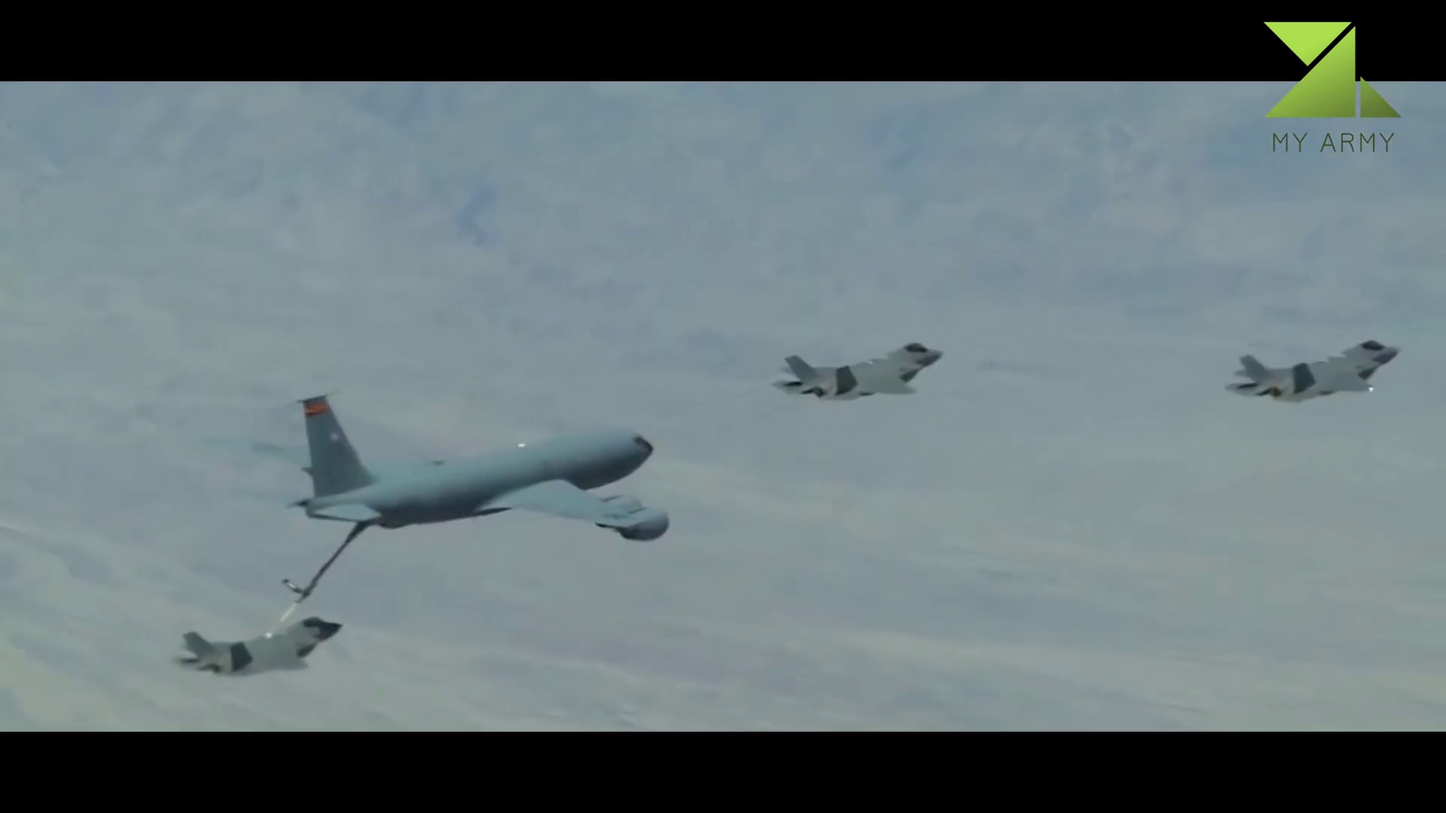F35: (1223, 339, 1401, 402), (174, 615, 343, 679), (771, 341, 944, 401)
